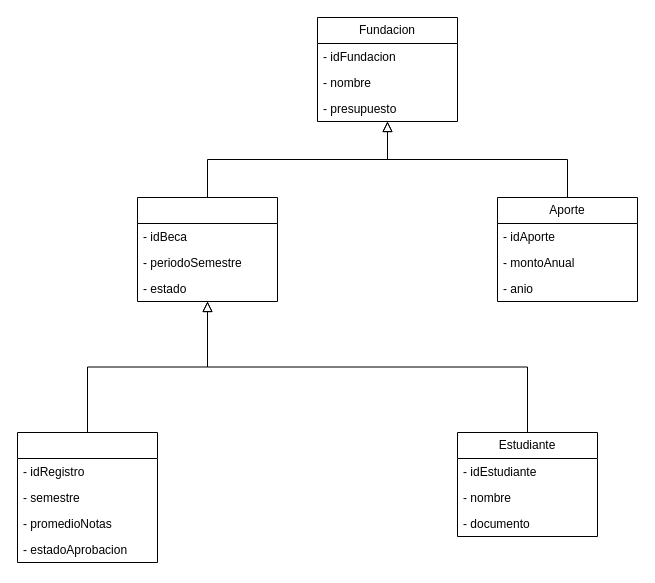
The diagram is 655 pixels wide and 583 high, and some of its shapes have lost their labels. Here are the shapes that lost their labels. From the top down, the box of each, then its label:
(136, 196, 278, 302): BecaCredito
(16, 432, 158, 562): RegistroAcademico
